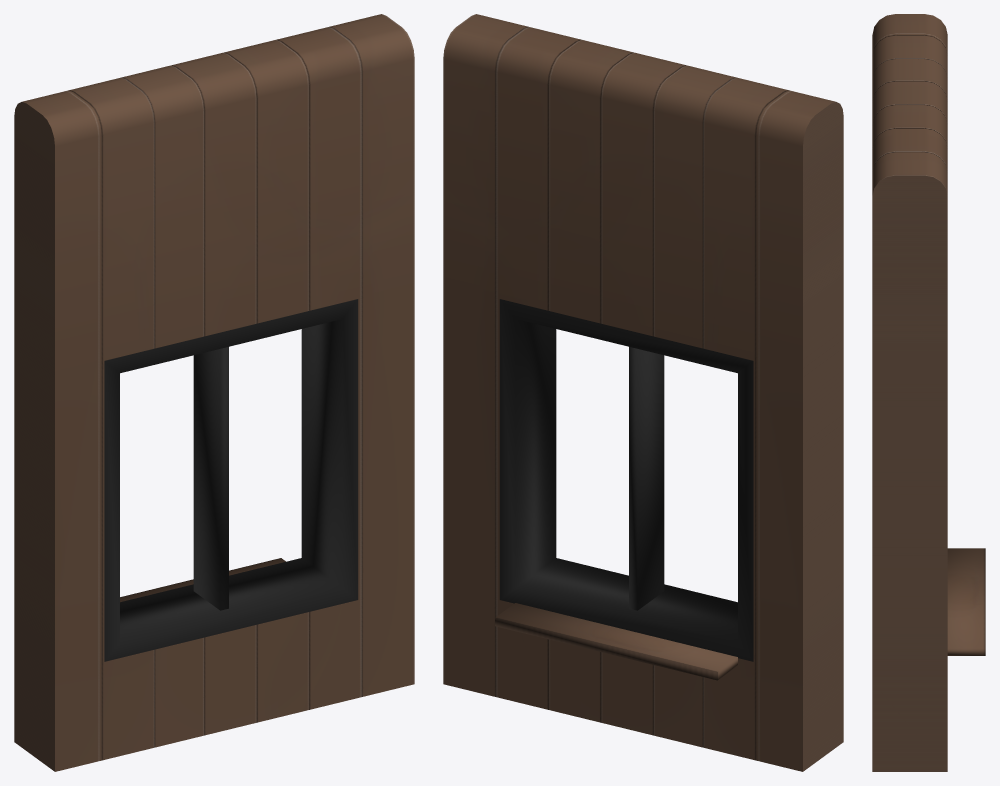
Rendered from WallWindow_GEO.fbx.
The picture shows the model from 3 angles, left to right: view 1: azimuth 30°, elevation 25°; view 2: azimuth 150°, elevation 25°; view 3: azimuth 270°, elevation 25°; orthographic projection. The views are drawn at different scales.
Visible parts, largest first — view 1: WallWindow_GEO; view 2: WallWindow_GEO; view 3: WallWindow_GEO.
Boxes of the visible parts, bbox=[...] form: WallWindow_GEO: bbox=[14, 14, 414, 771]; WallWindow_GEO: bbox=[443, 14, 843, 771]; WallWindow_GEO: bbox=[872, 14, 985, 771].
Size of the model in its own units: 284 by 488 by 83.8.
1 material, 1 textured.
